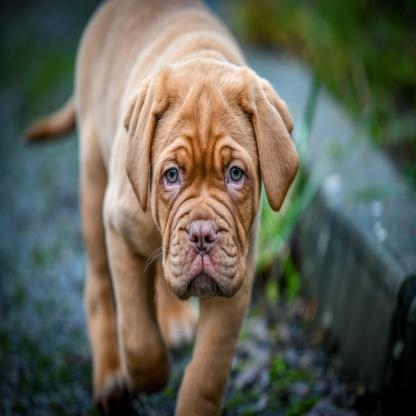Douge De Bordeaux: (21, 6, 302, 405)
